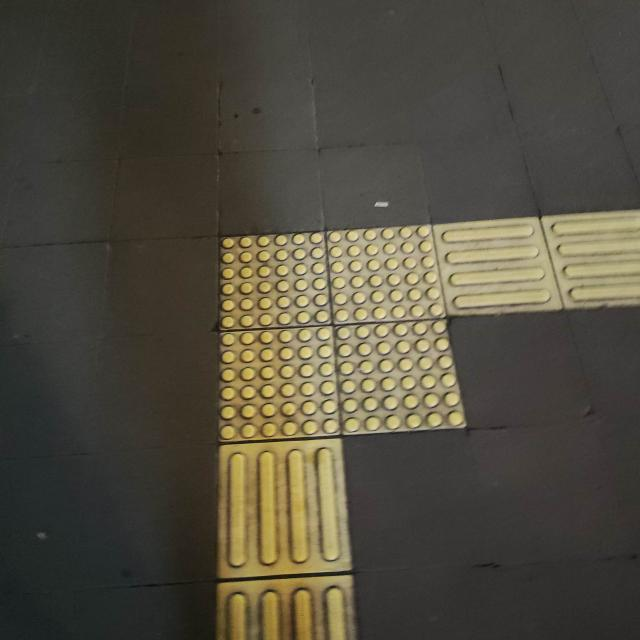kanan: (138, 148, 640, 562)
